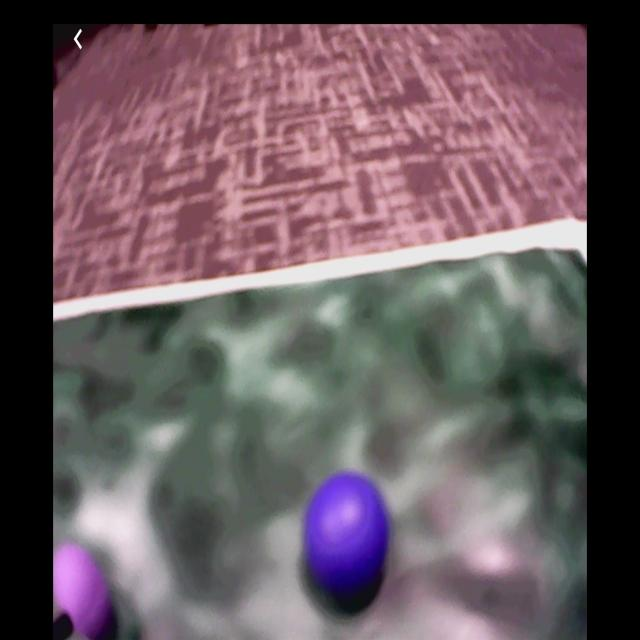ball: (302, 472, 390, 590), (54, 544, 107, 636)
